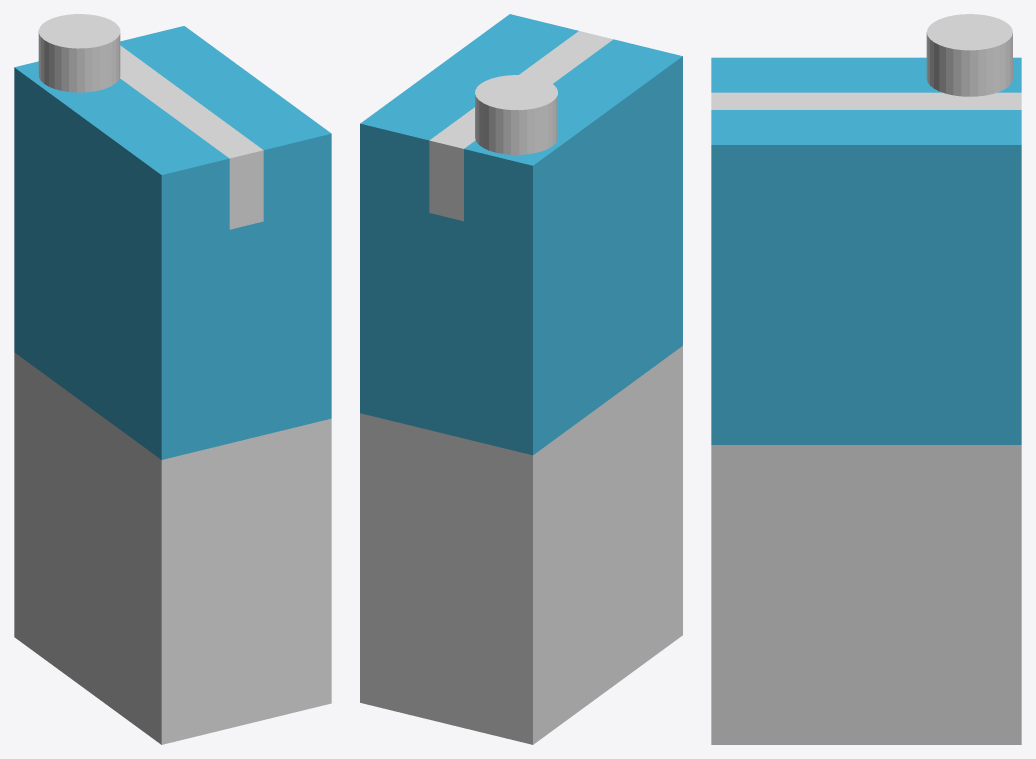
File: MilkBox.dae
3 views of the same model, side by side, from view 1: azimuth 30°, elevation 25°; view 2: azimuth 150°, elevation 25°; view 3: azimuth 270°, elevation 25° (orthographic). The views are drawn at different scales.
Parts seen in each view (by area): view 1: Cylinder; view 2: Cylinder; view 3: Cylinder.
Boxes of the visible parts, x1,y1,x2,y2 form: Cylinder: [14, 14, 331, 744]; Cylinder: [360, 14, 682, 744]; Cylinder: [711, 14, 1021, 744].
Size of the model in its own units: 0.06 by 0.09 by 0.2069.
